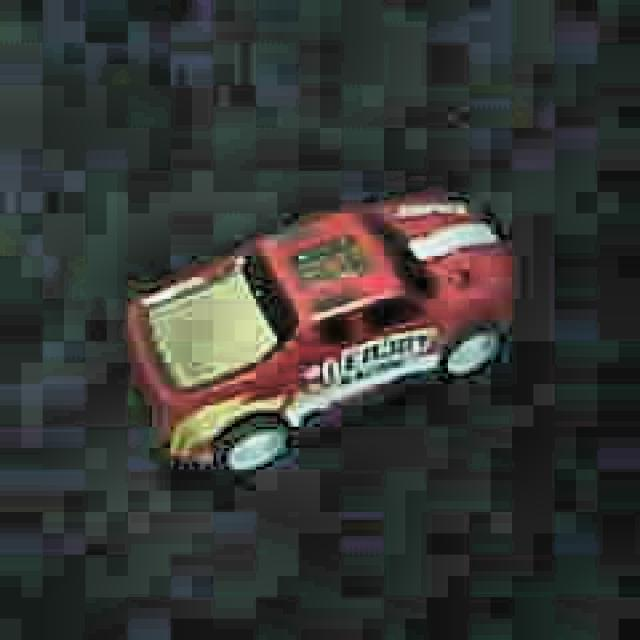car: (117, 187, 523, 481)
